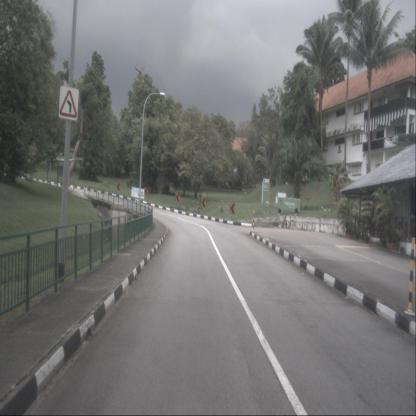vehicle-bicycle: (282, 213, 296, 230)
